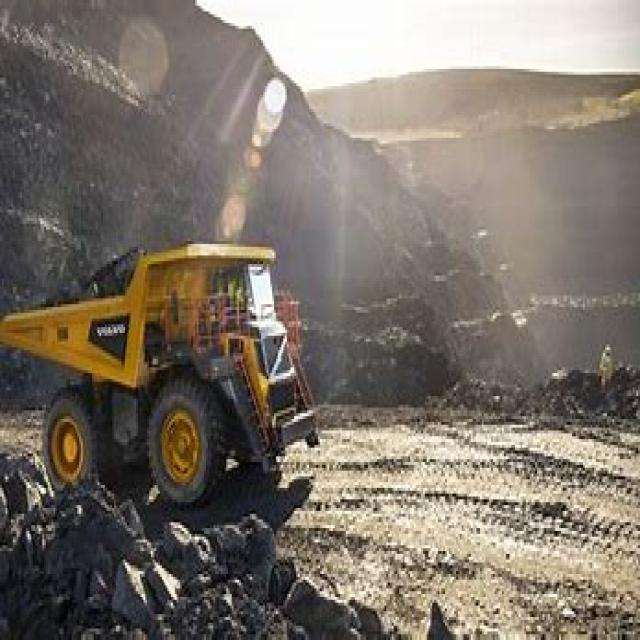dump_truck: (3, 229, 326, 511)
